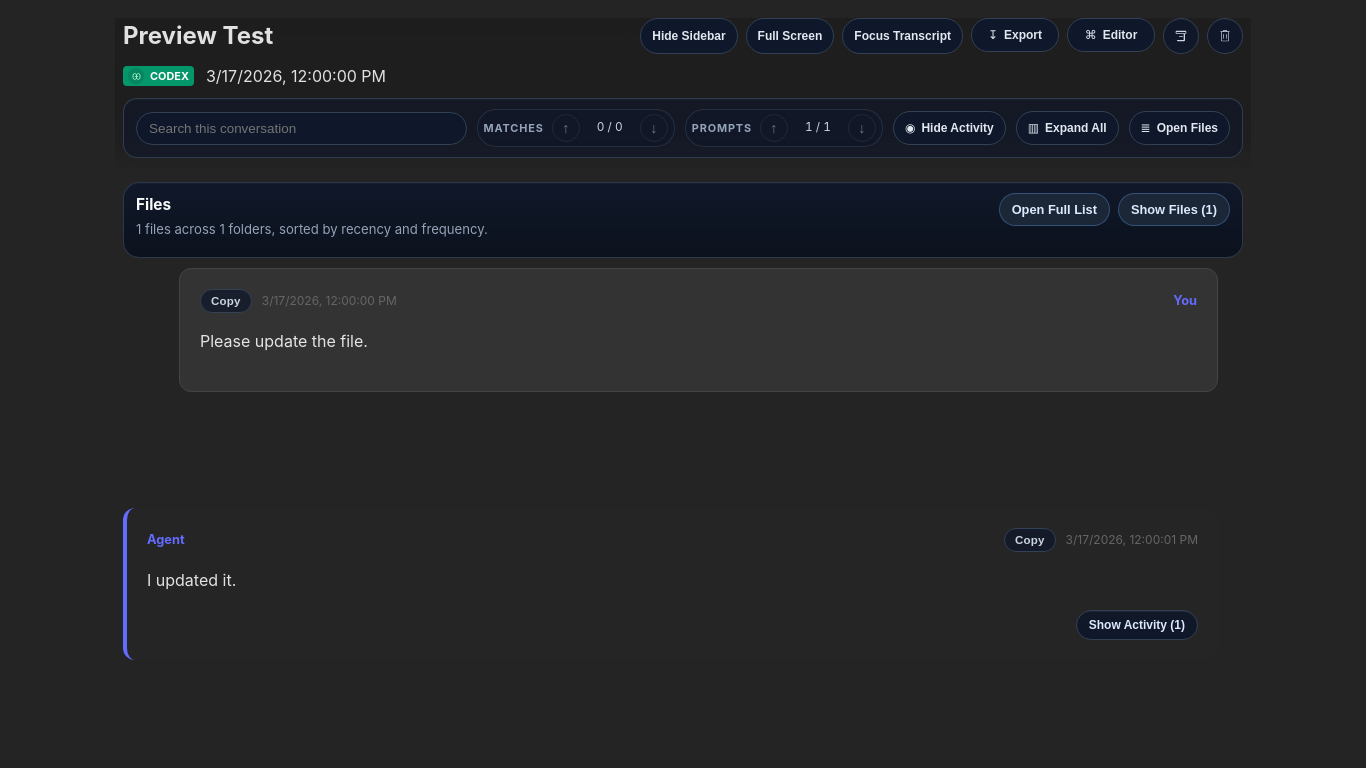
Test: ConversationDetail file preview › keeps the files panel collapsed by default and toggles it open
Expected: the text "src" is not shown
Click the button "Show Files (1)" at (1174, 210), box [1118,193,1230,226]
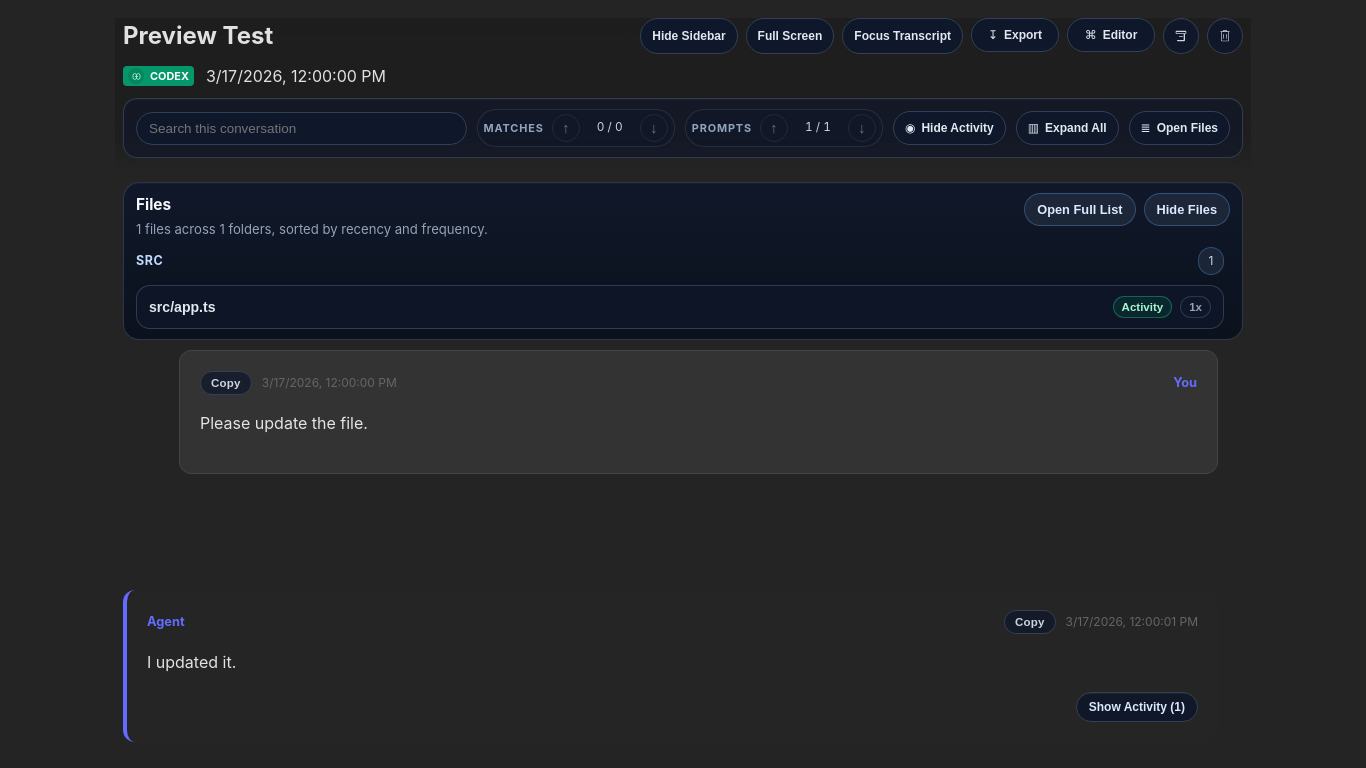
Result: the text "src" is shown at [136,252,164,270]
Result: the button "Hide Files" is expanded at [1144,193,1230,226]
